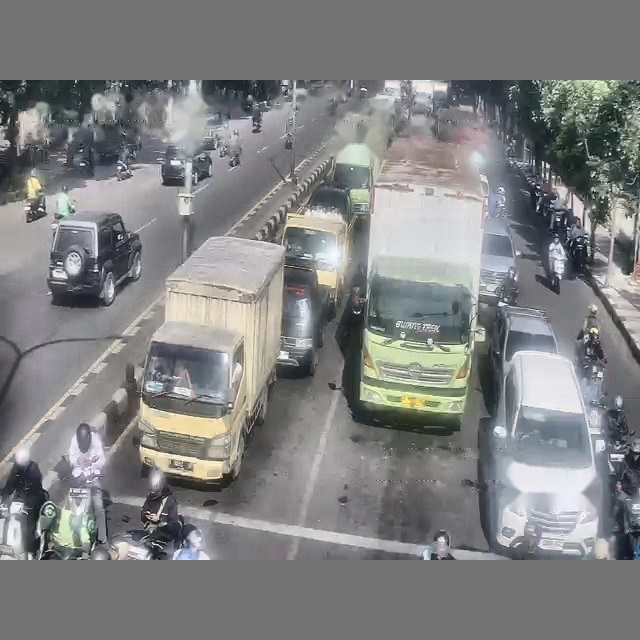Mobil: (480, 351, 602, 556), (47, 211, 141, 306), (488, 306, 558, 397), (277, 264, 325, 375), (479, 217, 520, 303), (305, 184, 352, 225), (161, 145, 188, 184), (202, 111, 229, 149)
Motor: (38, 470, 100, 559), (0, 499, 27, 559), (619, 489, 639, 559), (570, 235, 588, 272), (550, 256, 566, 294), (24, 195, 46, 222), (116, 160, 132, 180), (229, 151, 240, 167), (219, 142, 228, 157)
Truk: (359, 135, 484, 424), (138, 237, 284, 482)
